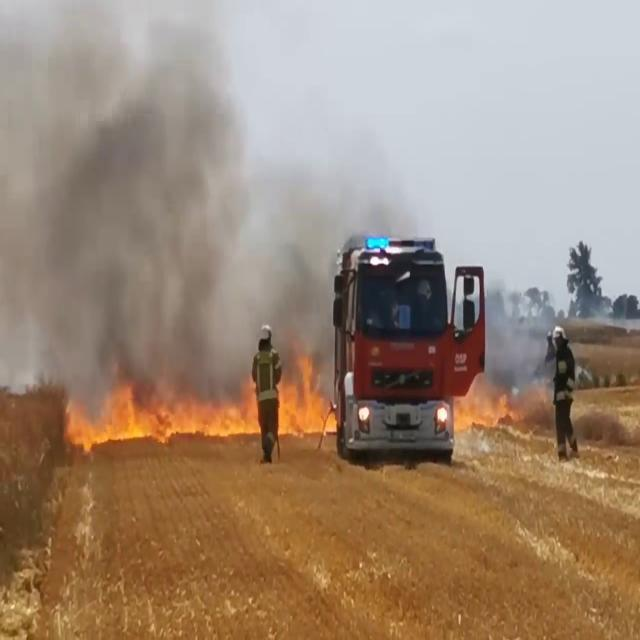Fire: (66, 370, 258, 446), (276, 349, 338, 438), (456, 381, 518, 436)
Smoke: (0, 0, 255, 381), (482, 278, 558, 405)
